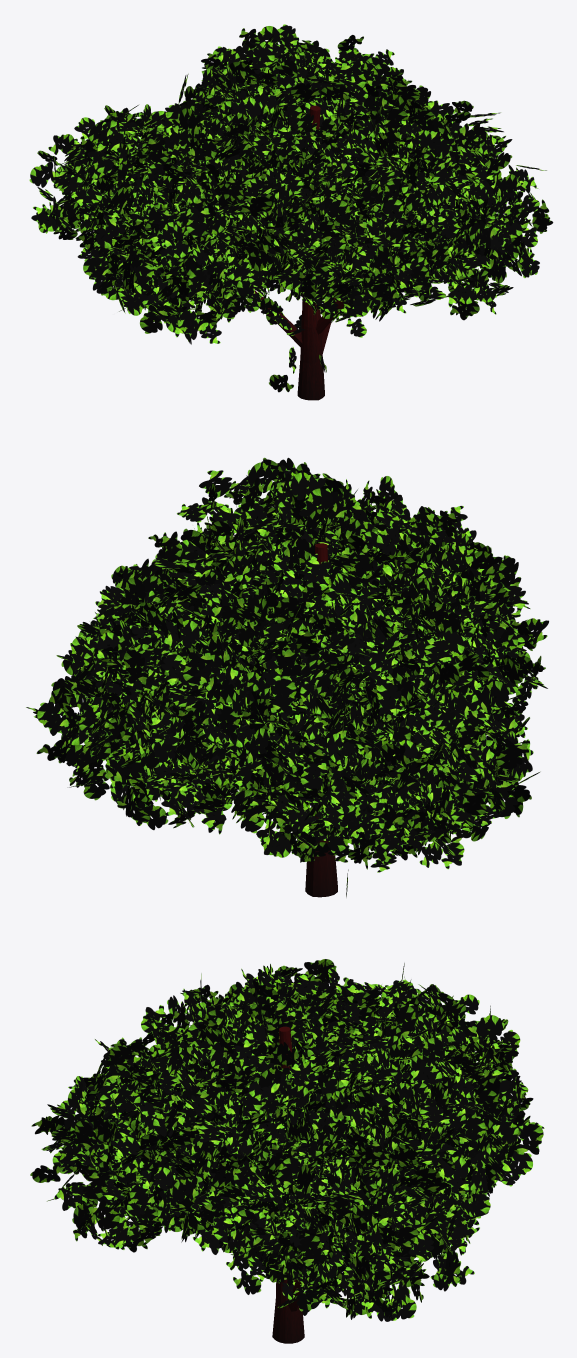
Rendered from understory_laurel_v02.glb.
The picture shows the model from 3 angles, top to bottom: view 1: azimuth 30°, elevation 25°; view 2: azimuth 150°, elevation 25°; view 3: azimuth 270°, elevation 25°; orthographic projection. The views are drawn at different scales.
Visible parts, largest first — view 1: understory_laurel_v02; view 2: understory_laurel_v02; view 3: understory_laurel_v02.
Boxes of the visible parts, x1=… form: understory_laurel_v02: x1=29, y1=24, x2=553, y2=400; understory_laurel_v02: x1=26, y1=457, x2=548, y2=897; understory_laurel_v02: x1=30, y1=959, x2=544, y2=1343.
Bounding box in the file's own units: 10.35 × 7.52 × 10.46.
Materials: 2 (2 with a texture image).
